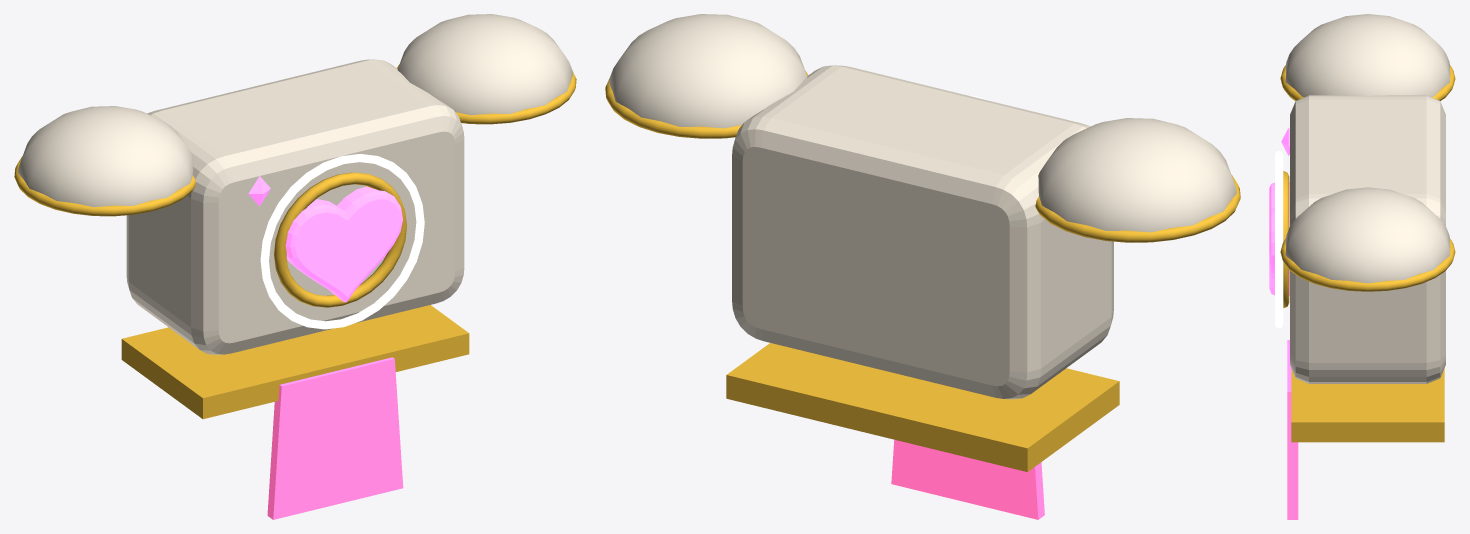
The model's file is eqf_eqmo4.glb.
The picture shows the model from 3 angles, left to right: view 1: azimuth 30°, elevation 25°; view 2: azimuth 150°, elevation 25°; view 3: azimuth 270°, elevation 25°; orthographic projection. The views are drawn at different scales.
Bounding box in the file's own units: 4.28 × 3.05 × 1.36.
